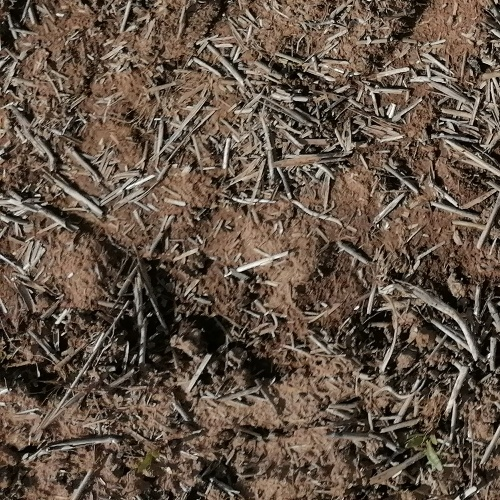beet: (408, 427, 443, 472), (140, 448, 160, 472)
